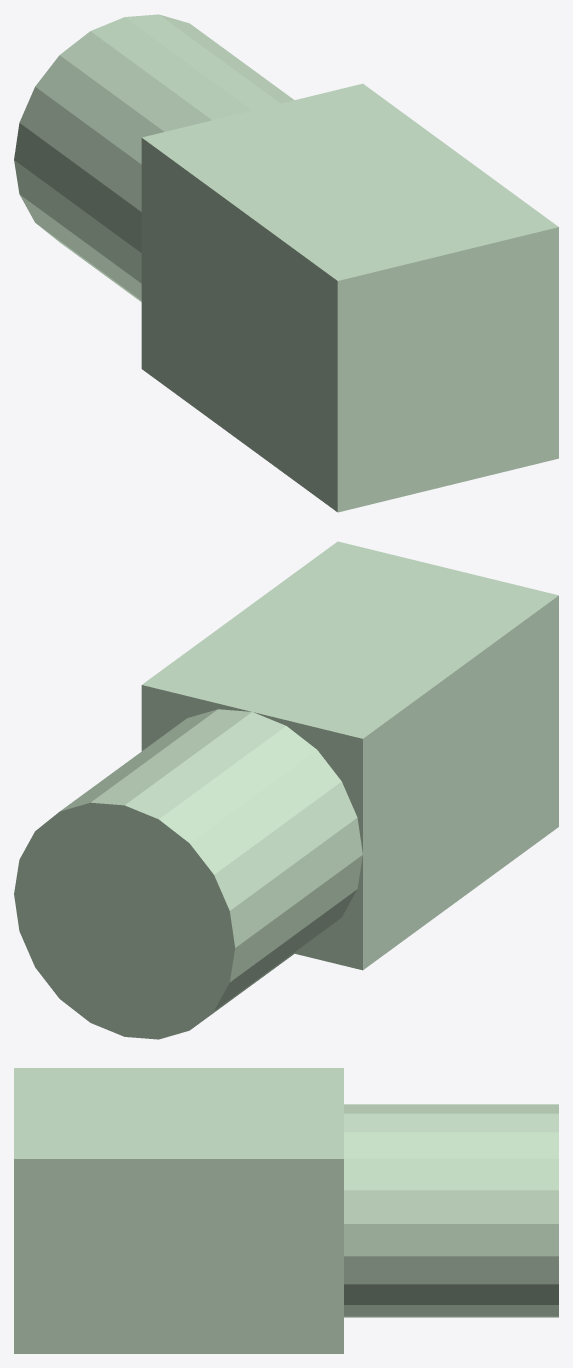
The model's file is LLEG_LINK3_mesh.dae.
3 views of the same model, one above another, from view 1: azimuth 30°, elevation 25°; view 2: azimuth 150°, elevation 25°; view 3: azimuth 270°, elevation 25° (orthographic). The views are drawn at different scales.
Visible parts, largest first — view 1: LLEG_LINK3 (×2); view 2: LLEG_LINK3 (×2); view 3: LLEG_LINK3 (×2).
Part boxes in pixels (left/top/right/bottom): LLEG_LINK3 (×2): left=14, top=14, right=558, bottom=512; LLEG_LINK3 (×2): left=14, top=541, right=558, bottom=1039; LLEG_LINK3 (×2): left=14, top=1068, right=558, bottom=1353.
Size of the model in its own units: 0.1 by 0.1 by 0.2535.
